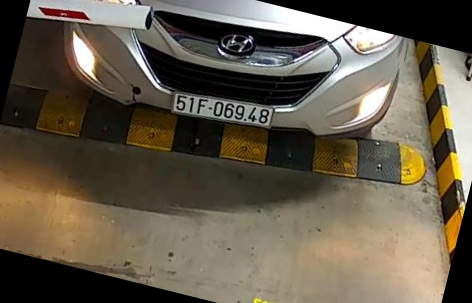plate: (166, 84, 280, 145)
